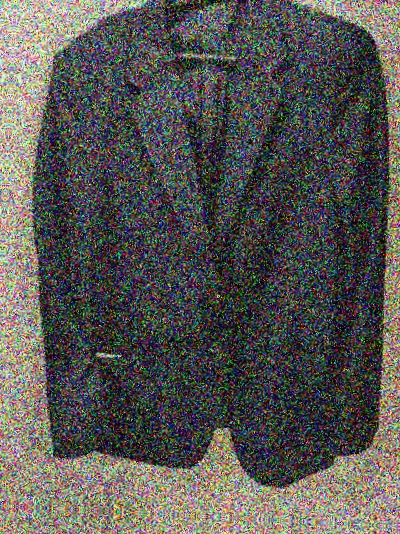Blazer: (0, 0, 400, 490), (0, 0, 8, 469)
